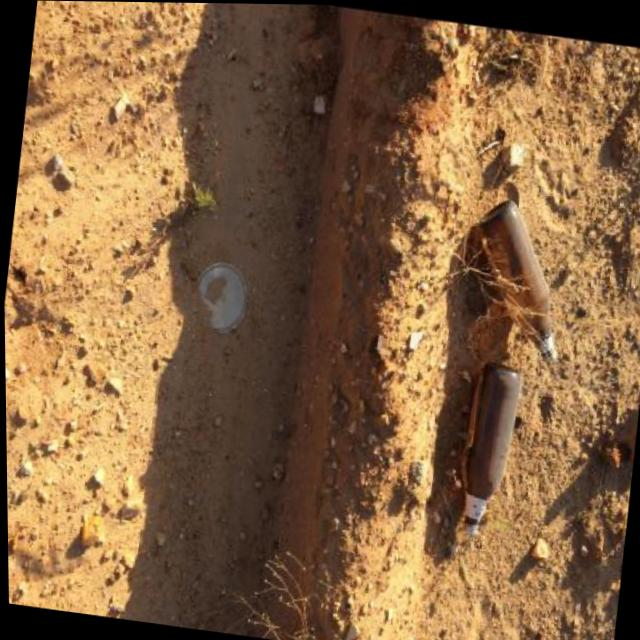glass: (462, 193, 575, 363), (450, 357, 527, 540)
metal: (188, 255, 252, 336)
